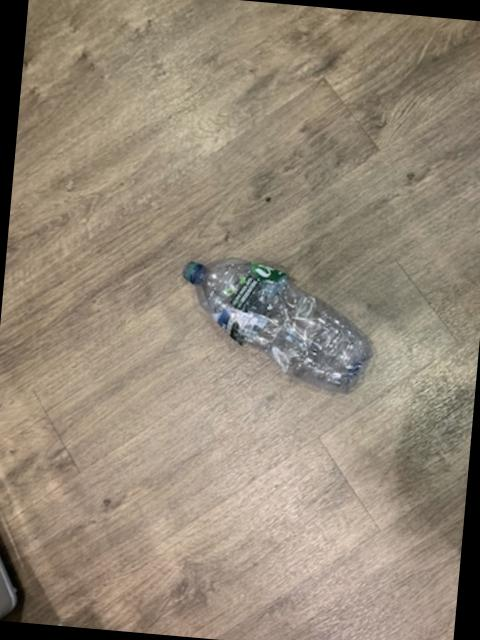plastic: (180, 255, 366, 387)
